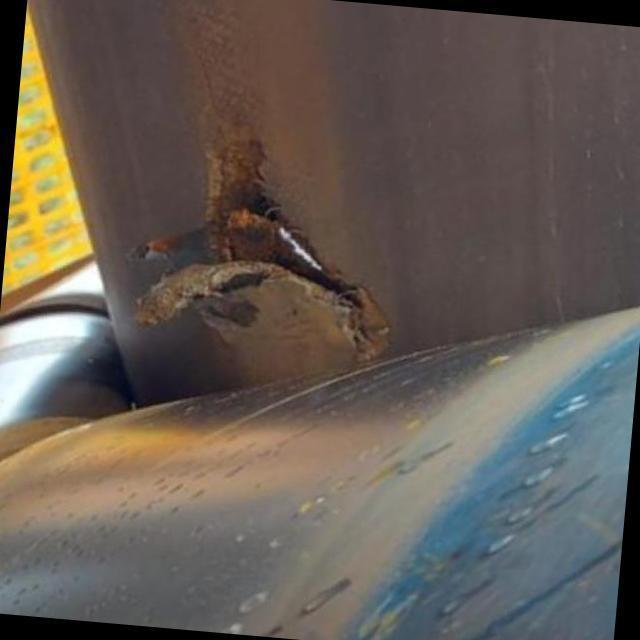Tear: (125, 132, 415, 398)
